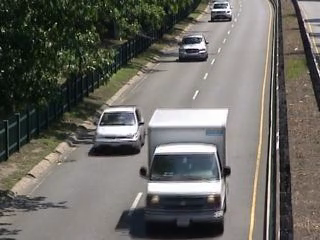car: (95, 105, 147, 154), (176, 33, 211, 63), (209, 1, 234, 22)
truck: (141, 108, 233, 237)
